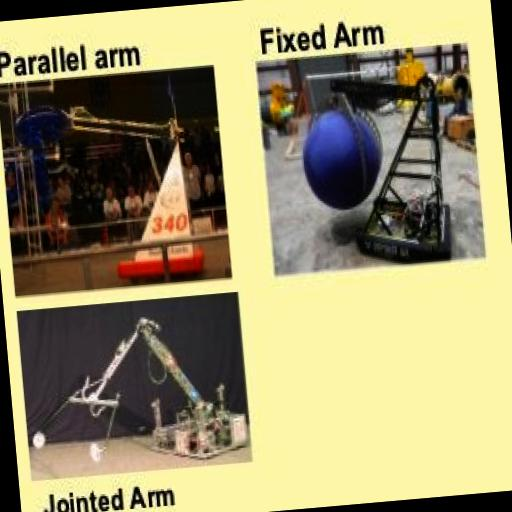robot: (38, 309, 248, 471), (299, 75, 453, 270), (100, 133, 205, 282)
